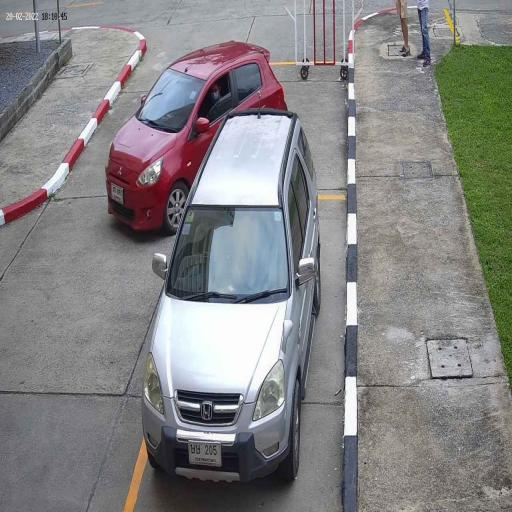car: (142, 109, 323, 487), (105, 40, 289, 234)
